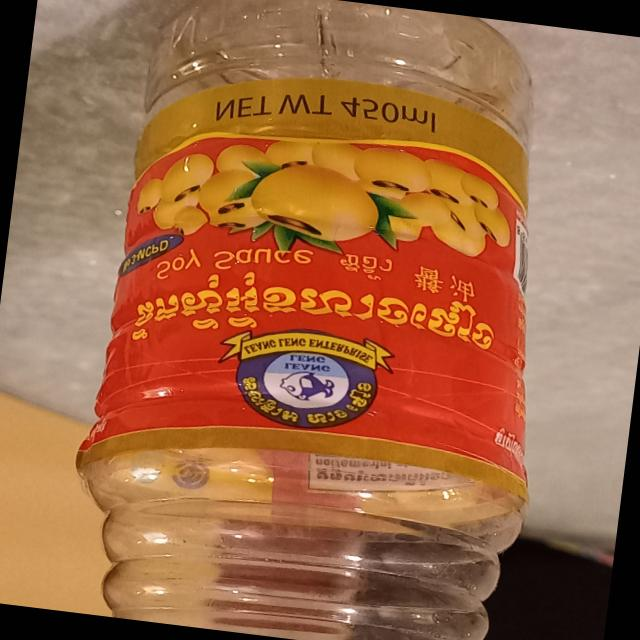1: (233, 376, 374, 428)
755: (334, 92, 406, 125)
Yolov11_80vkh: (127, 269, 507, 359)
